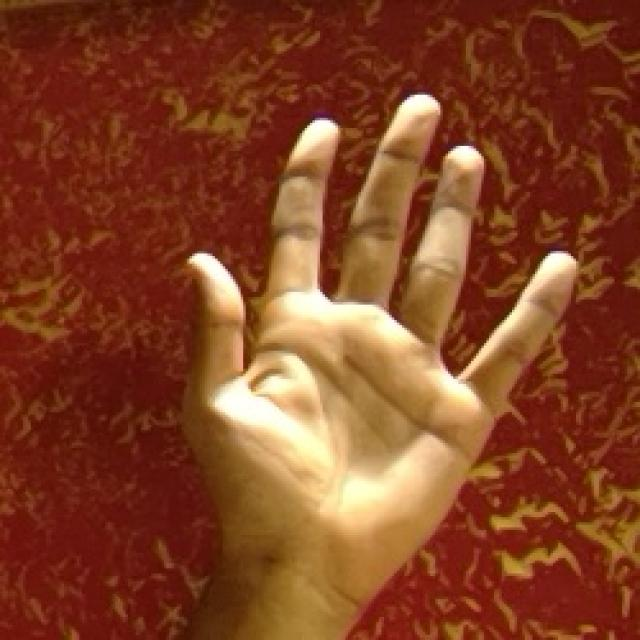Numeric-5: (184, 90, 581, 578)
